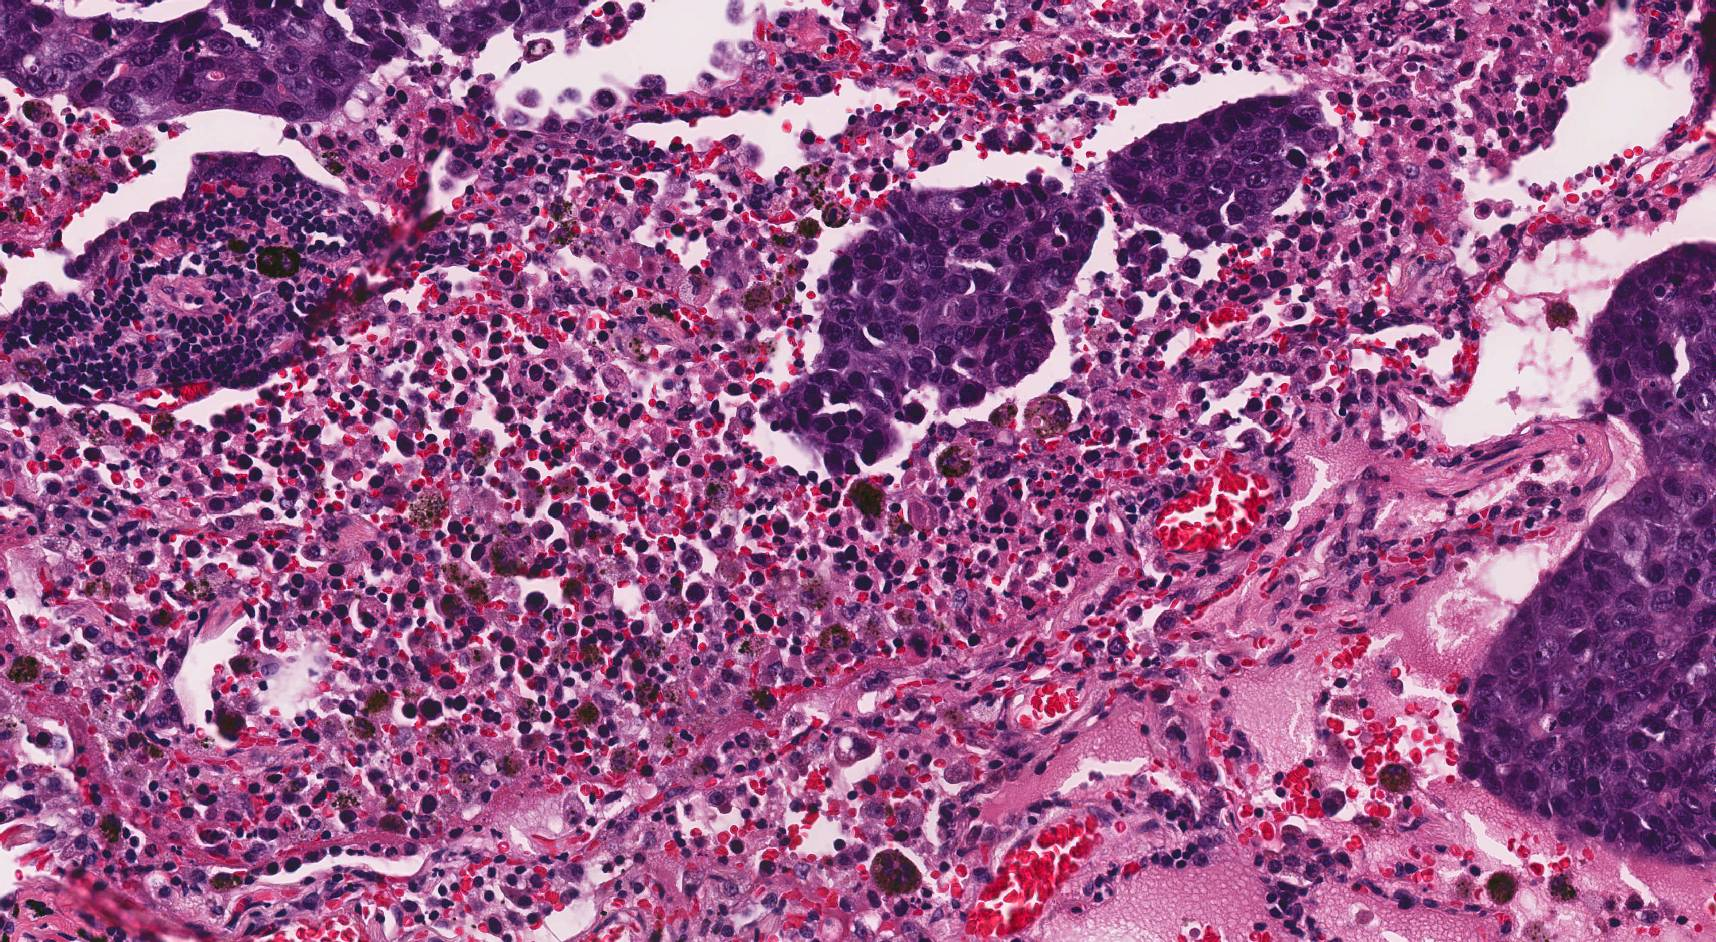stas: (764, 174, 1101, 468), (1101, 95, 1339, 250)
